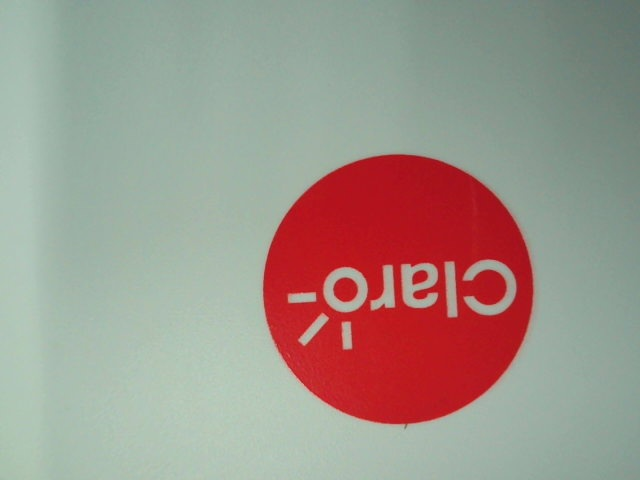BC_ClaorRed: (250, 136, 554, 428)
